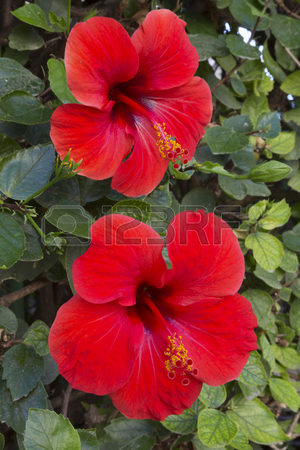Hibiscus: (53, 206, 261, 421), (53, 14, 222, 194)
